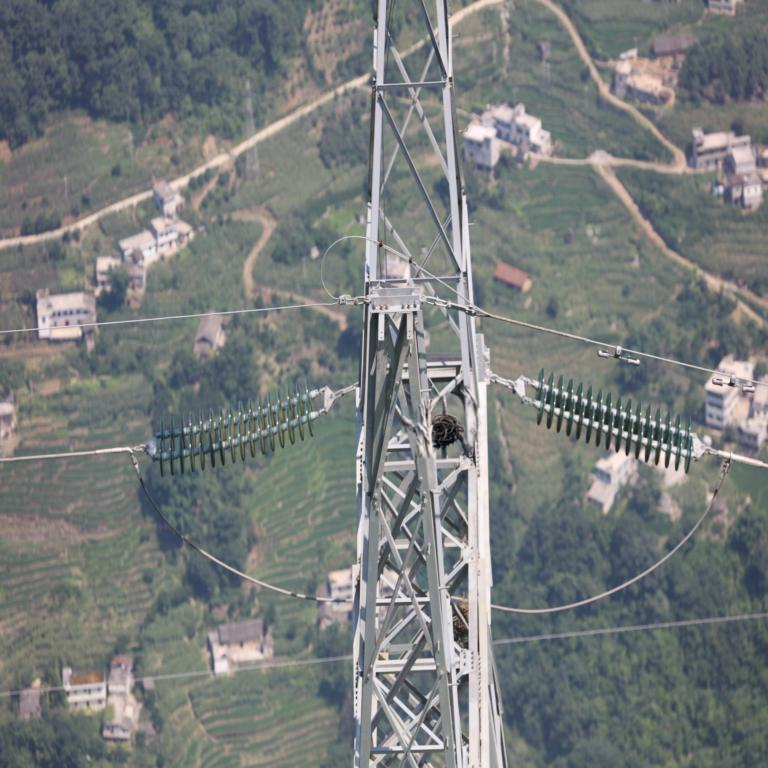nest: (426, 414, 462, 446), (448, 599, 469, 640)
